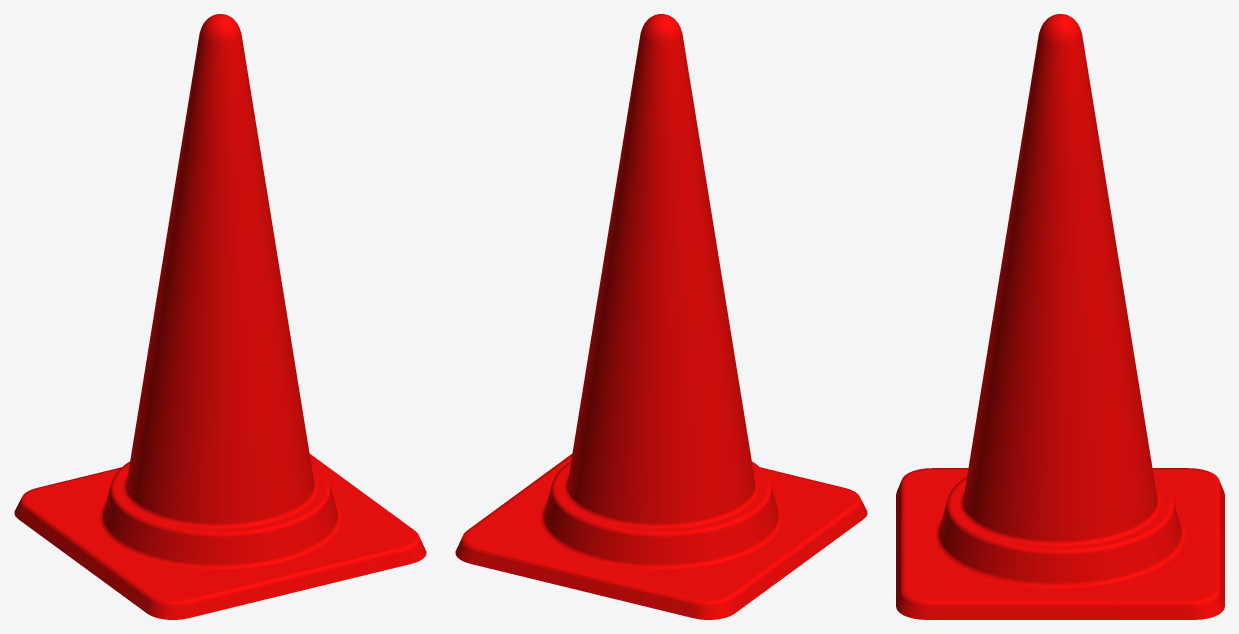
File: corn_new.fbx
3 renders of one model, left to right at view 1: azimuth 30°, elevation 25°; view 2: azimuth 150°, elevation 25°; view 3: azimuth 270°, elevation 25°, orthographic. The views are drawn at different scales.
Parts seen in each view (by area): view 1: EXT_Color_Cone; view 2: EXT_Color_Cone; view 3: EXT_Color_Cone.
Part boxes in pixels (x1,y1,x2,y2): EXT_Color_Cone: (14, 14, 426, 619); EXT_Color_Cone: (455, 14, 867, 619); EXT_Color_Cone: (896, 14, 1224, 619).
Size of the model in its own units: 0.39 by 0.7 by 0.39.
